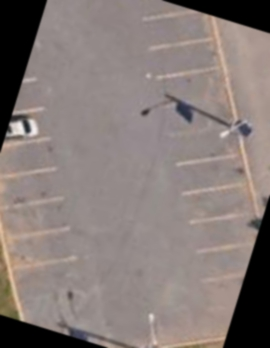parkingspot: (127, 0, 262, 344), (0, 45, 84, 274)
